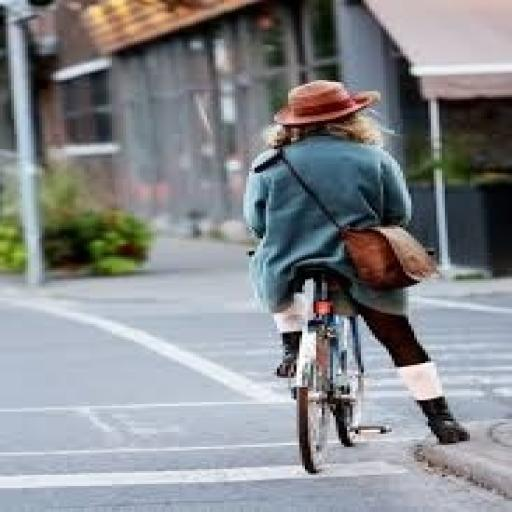cycling: (240, 78, 476, 449)
